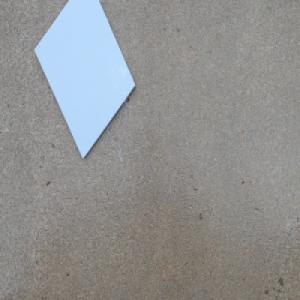PaintChip: (33, 0, 137, 161)
